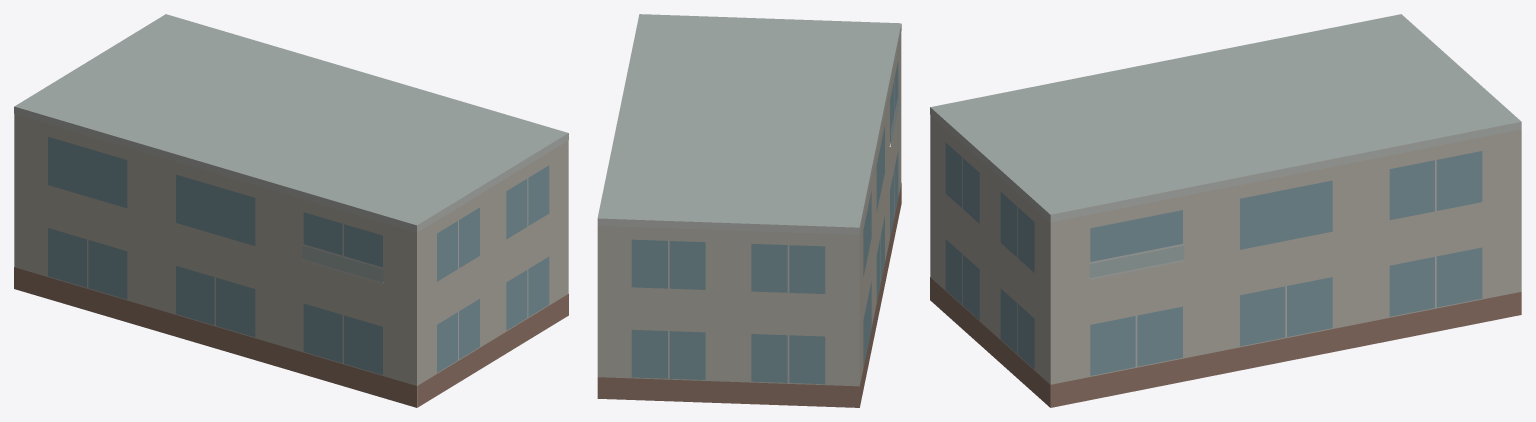
Rendered from survey-upis-32708212.glb.
3 renders of one model, left to right at view 1: azimuth 30°, elevation 25°; view 2: azimuth 150°, elevation 25°; view 3: azimuth 270°, elevation 25°, orthographic. The views are drawn at different scales.
Parts seen in each view (by area): view 1: survey-upis-32708212.tmp; view 2: survey-upis-32708212.tmp; view 3: survey-upis-32708212.tmp.
Part boxes in pixels (x1,y1,x2,y2): survey-upis-32708212.tmp: (14,14,568,407); survey-upis-32708212.tmp: (597,14,901,407); survey-upis-32708212.tmp: (930,14,1521,407).
Size of the model in its own units: 13.61 by 6.1 by 16.94.
